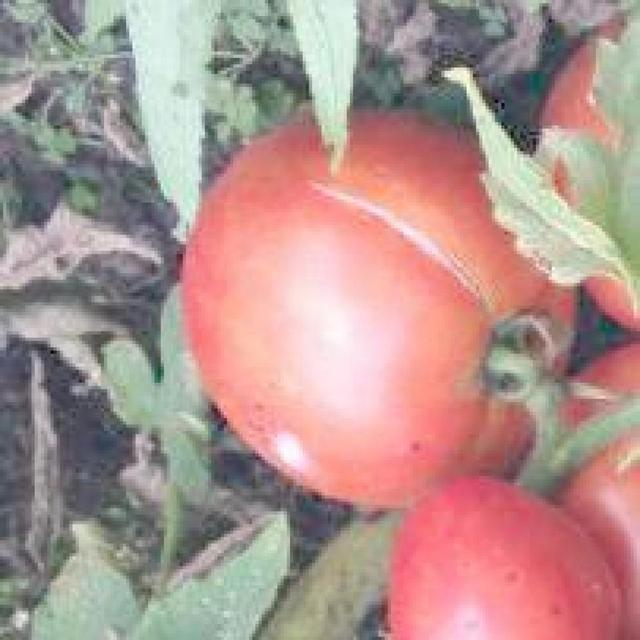Healthy Fruit: (265, 326, 414, 422)
